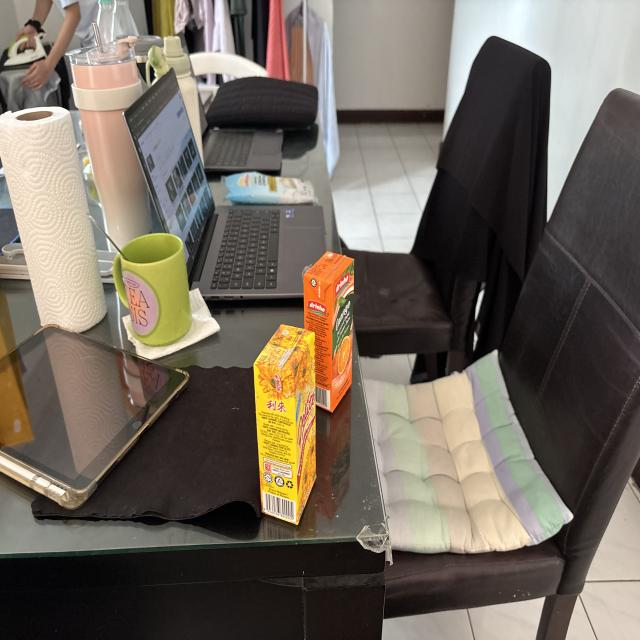drink_carton: (252, 315, 322, 531), (300, 240, 362, 419)
